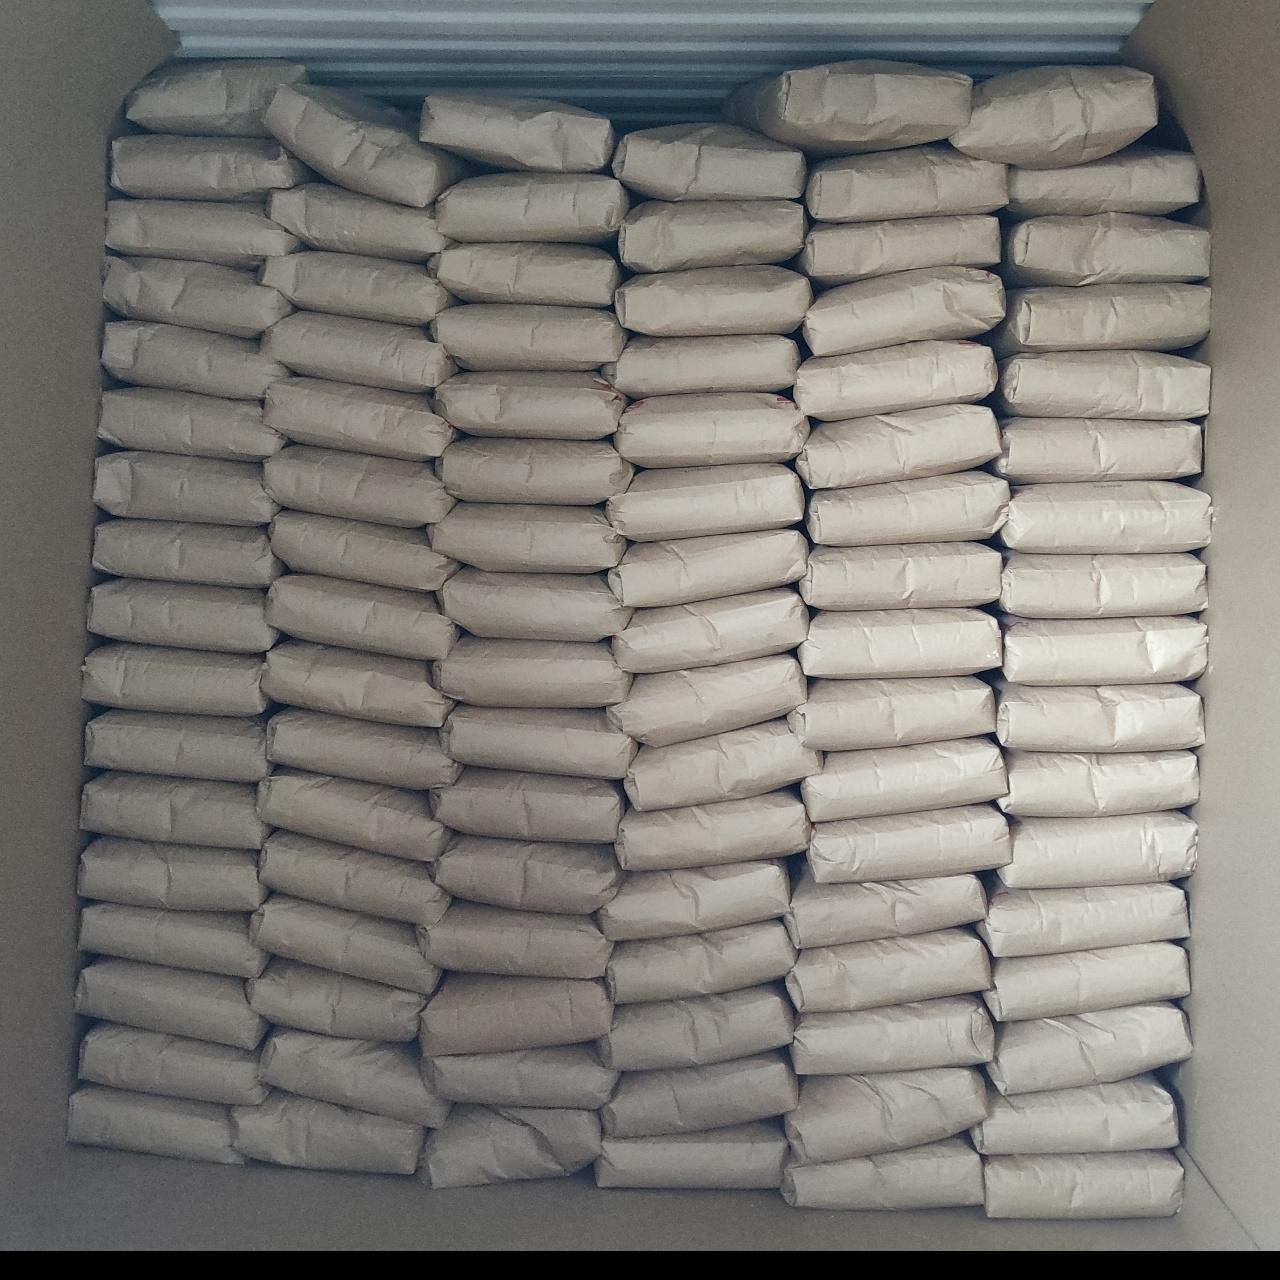sack: (265, 86, 467, 207), (724, 61, 971, 154), (949, 67, 1157, 168), (785, 1068, 987, 1164), (988, 1002, 1191, 1094), (250, 896, 438, 993), (259, 1029, 448, 1126), (607, 654, 806, 745), (803, 266, 1005, 356), (625, 717, 823, 809), (784, 859, 987, 948), (260, 831, 449, 924), (785, 928, 990, 1013), (601, 1050, 798, 1138), (796, 404, 1000, 489), (598, 982, 794, 1070), (257, 770, 447, 860), (76, 959, 266, 1049), (801, 737, 1006, 821), (971, 1074, 1178, 1155), (987, 282, 1210, 358), (612, 588, 809, 673), (978, 879, 1189, 958), (794, 340, 996, 421), (261, 641, 452, 727), (606, 920, 796, 1005), (266, 576, 458, 659), (265, 377, 458, 459), (806, 804, 1012, 881), (983, 942, 1189, 1020), (231, 1092, 424, 1175), (791, 995, 993, 1074), (260, 311, 456, 392), (263, 445, 455, 527), (421, 91, 614, 172), (422, 974, 612, 1056), (267, 708, 459, 789), (417, 1104, 601, 1189), (615, 790, 810, 870), (608, 529, 809, 606), (998, 811, 1197, 888), (103, 256, 291, 338), (996, 481, 1211, 552), (1001, 213, 1208, 287), (805, 470, 1009, 545), (806, 145, 1007, 222), (79, 1023, 267, 1104), (607, 464, 804, 542), (598, 860, 789, 940), (990, 350, 1208, 420), (790, 678, 994, 751), (612, 123, 805, 200), (994, 681, 1203, 753), (792, 216, 1000, 287), (417, 901, 612, 978), (270, 511, 458, 590), (246, 959, 427, 1041), (102, 320, 290, 399), (429, 767, 625, 842), (782, 1136, 983, 1208), (267, 184, 454, 263), (436, 835, 622, 913), (440, 704, 636, 778), (261, 251, 456, 325), (798, 608, 1002, 679), (87, 578, 278, 653), (81, 772, 268, 849), (436, 567, 632, 640), (79, 836, 267, 911), (615, 265, 812, 336), (615, 394, 809, 467), (1007, 145, 1199, 218), (433, 636, 631, 707), (435, 172, 629, 244), (95, 451, 280, 526), (1003, 617, 1207, 685), (110, 135, 318, 202), (990, 417, 1201, 483), (125, 61, 307, 137), (594, 1117, 788, 1189), (98, 387, 285, 461), (79, 904, 265, 978), (799, 542, 1001, 610), (999, 552, 1207, 618), (619, 200, 806, 273), (429, 503, 626, 572), (82, 644, 268, 716), (105, 199, 300, 268), (68, 1085, 243, 1162), (91, 519, 284, 588), (430, 304, 627, 370), (437, 437, 633, 504), (422, 1042, 618, 1109), (998, 751, 1198, 816), (86, 710, 268, 781), (983, 1152, 1183, 1217), (437, 372, 626, 440), (602, 335, 799, 399), (430, 244, 624, 307)
